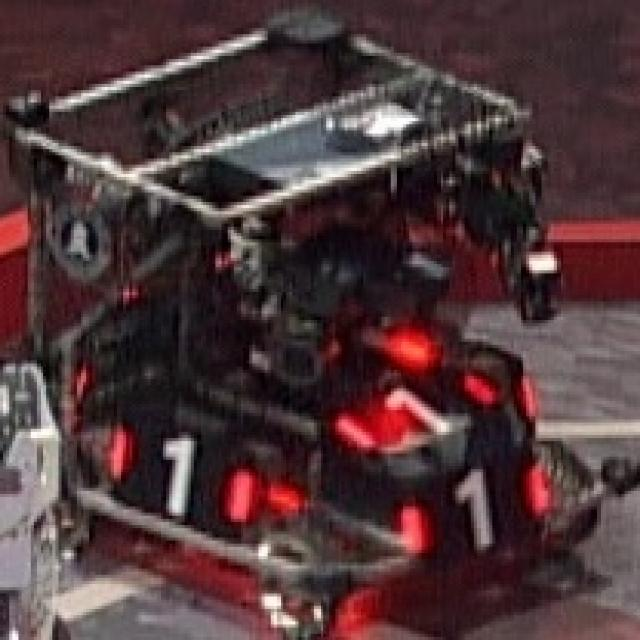R1: (104, 426, 256, 522), (397, 460, 548, 553), (332, 370, 498, 450)
